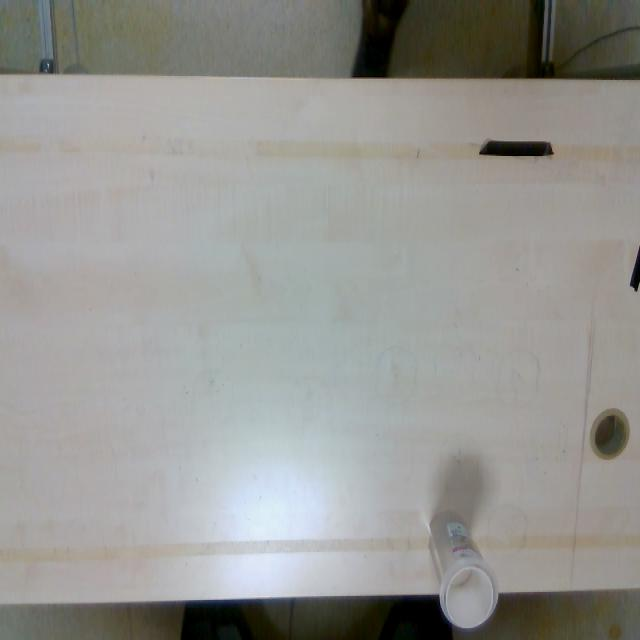cups: (426, 510, 500, 630)
